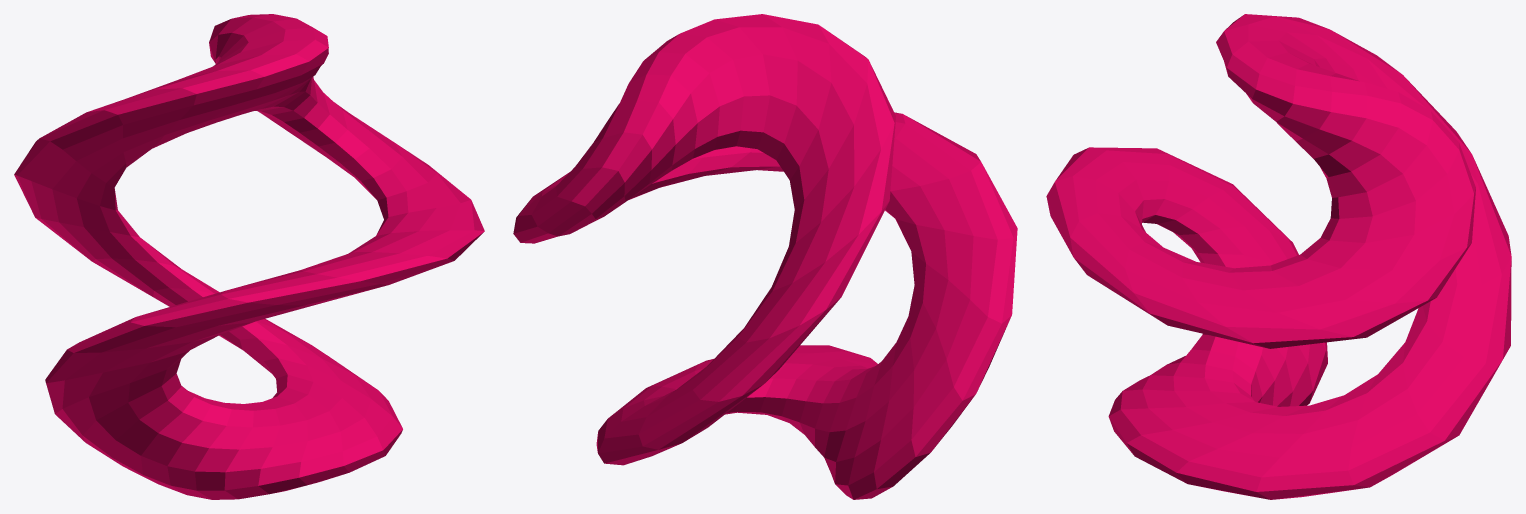
The model's file is Inifnity Shape FIXED.fbx.
3 views of the same model, side by side, from view 1: azimuth 30°, elevation 25°; view 2: azimuth 150°, elevation 25°; view 3: azimuth 270°, elevation 25° (orthographic). The views are drawn at different scales.
Parts seen in each view (by area): view 1: Torus.002; view 2: Torus.002; view 3: Torus.002.
Boxes of the visible parts, x1,y1,x2,y2 form: Torus.002: [14, 14, 484, 499]; Torus.002: [513, 14, 1017, 499]; Torus.002: [1046, 14, 1511, 499].
Bounding box in the file's own units: 334 × 325 × 322.
